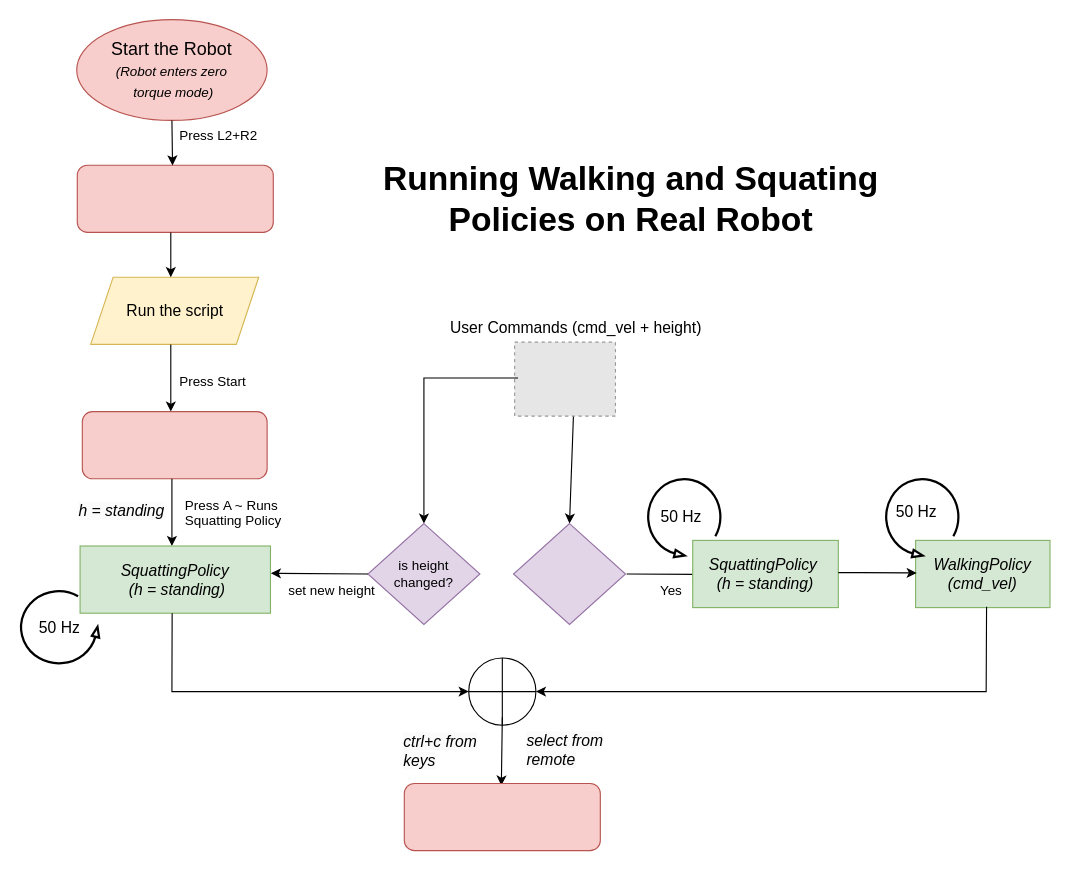
The diagram is 1070 pixels wide and 870 high, and some of its shapes have lost their labels. Grey dashed boxes stand in for pictures. Each missing label, with the centre of its shape:
"Damping mode" goes at pixel 501 816.
"Debugging mode (Robot enters damping mode)" goes at pixel 174 198.
"is cmd_vel triggered?" goes at pixel 569 573.
"Robot to default joint position state (upper and lower)" goes at pixel 174 444.
